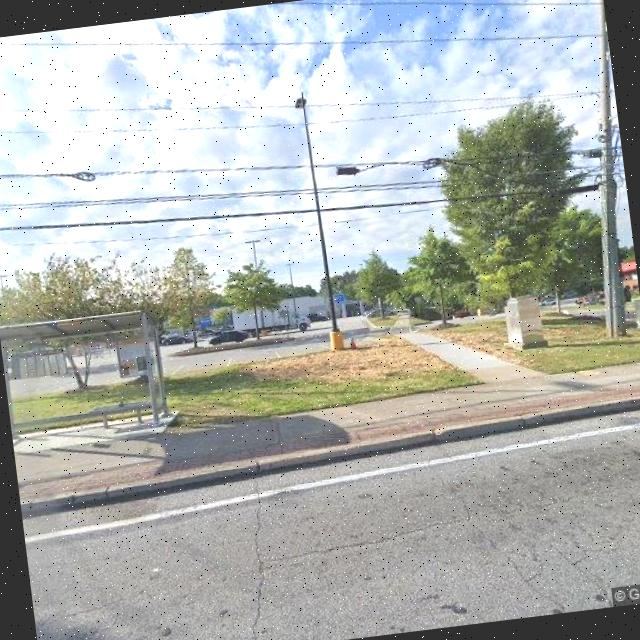seating: (88, 398, 153, 430)
shelter: (0, 305, 172, 447)
